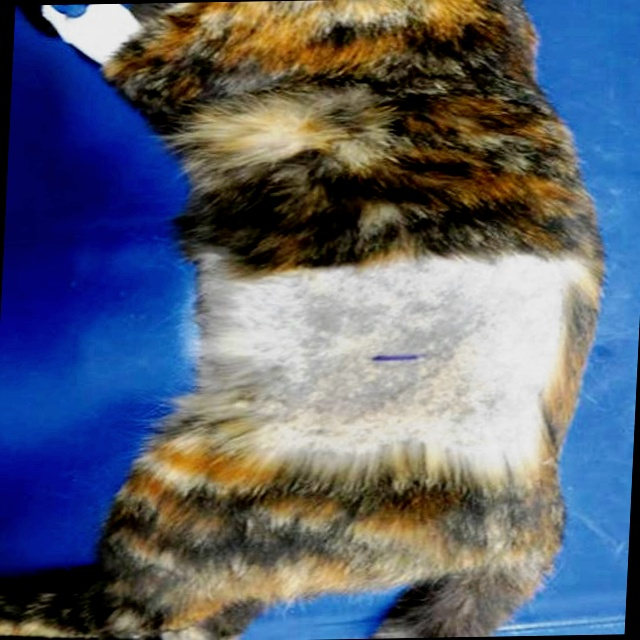hairloss: (187, 257, 582, 454)
